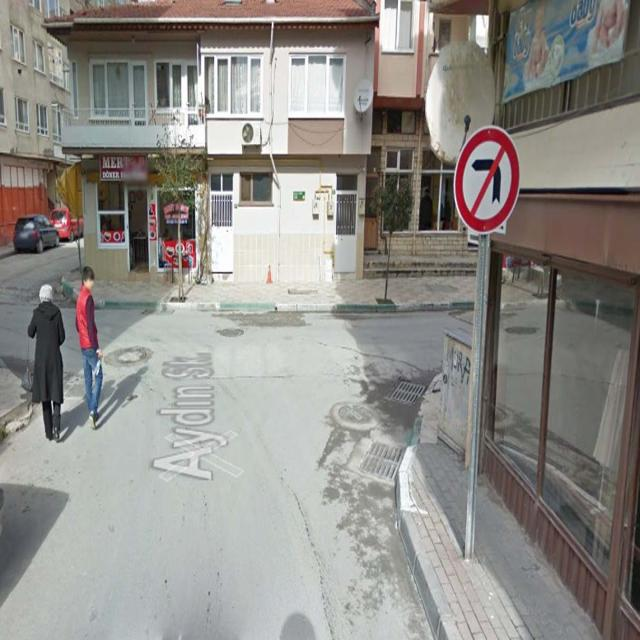soladonulmez: (454, 125, 520, 233)
